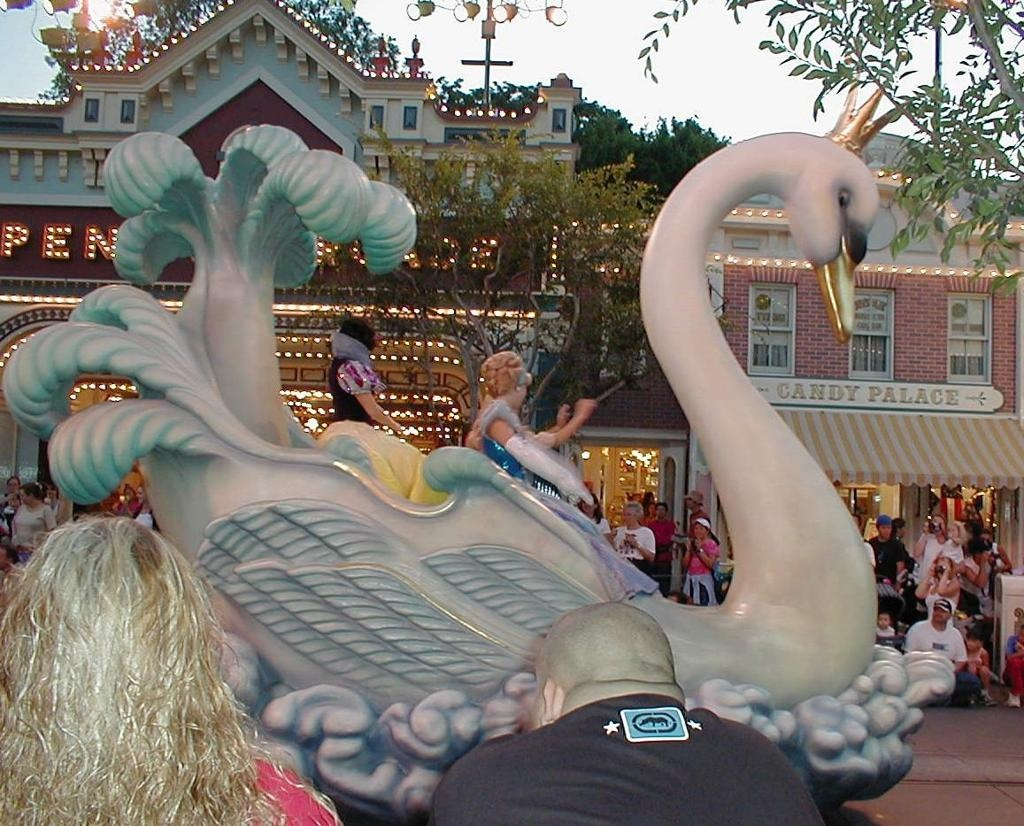human_face: (530, 650, 564, 756), (356, 322, 374, 354), (512, 374, 528, 408), (934, 604, 948, 624), (878, 520, 892, 538), (877, 612, 891, 630), (931, 514, 943, 533), (938, 557, 950, 576), (623, 506, 637, 522), (3, 547, 13, 569), (966, 634, 980, 648), (20, 488, 32, 504), (135, 486, 147, 502), (694, 522, 706, 538), (848, 514, 858, 533), (978, 532, 990, 547), (947, 523, 957, 540), (688, 496, 700, 510), (976, 550, 988, 564), (1016, 627, 1024, 645), (582, 496, 592, 510), (8, 478, 18, 491), (898, 523, 906, 537), (46, 489, 56, 499), (922, 522, 932, 532), (656, 504, 664, 516), (124, 490, 132, 501), (650, 505, 656, 517), (111, 492, 117, 501)
